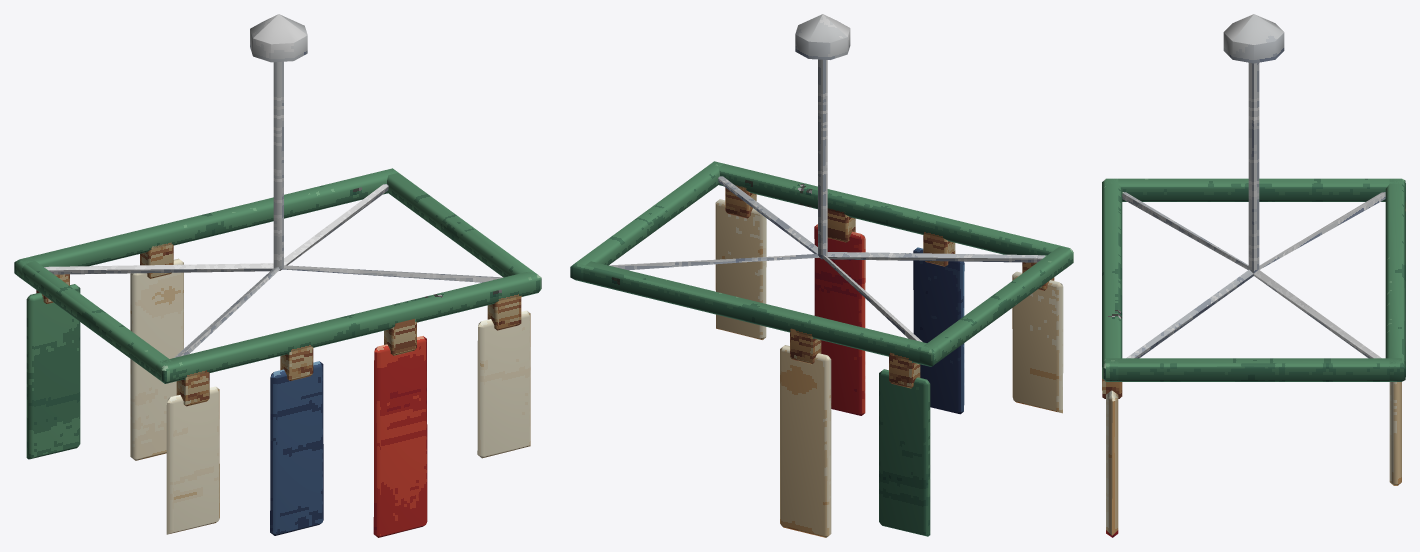
The model's file is pinch_hanger.glb.
3 renders of one model, left to right at view 1: azimuth 30°, elevation 25°; view 2: azimuth 150°, elevation 25°; view 3: azimuth 270°, elevation 25°, orthographic. The views are drawn at different scales.
Visible parts, largest first — view 1: mesh; view 2: mesh; view 3: mesh.
Boxes of the visible parts, <box> form: mesh: <box>14,14,541,537</box>; mesh: <box>570,14,1073,537</box>; mesh: <box>1102,14,1405,537</box>.
Size of the model in its own units: 0.4394 by 0.53 by 0.2996.
Materials: 1 (1 with a texture image).
